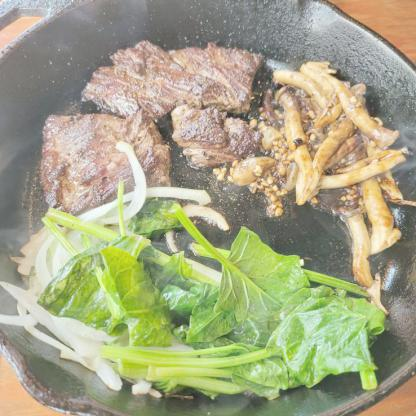Carne: (82, 49, 264, 118), (42, 109, 163, 202), (172, 104, 251, 167)
